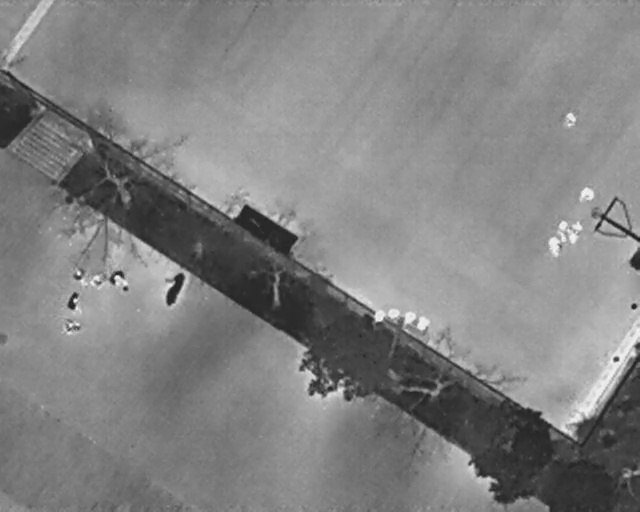Bicycle: (158, 266, 192, 310)
Person: (564, 218, 586, 249), (110, 269, 128, 289), (547, 236, 562, 258), (67, 292, 81, 314), (72, 268, 89, 285), (557, 218, 569, 242), (66, 319, 81, 337), (579, 186, 594, 203), (88, 274, 104, 288), (565, 113, 576, 127)
